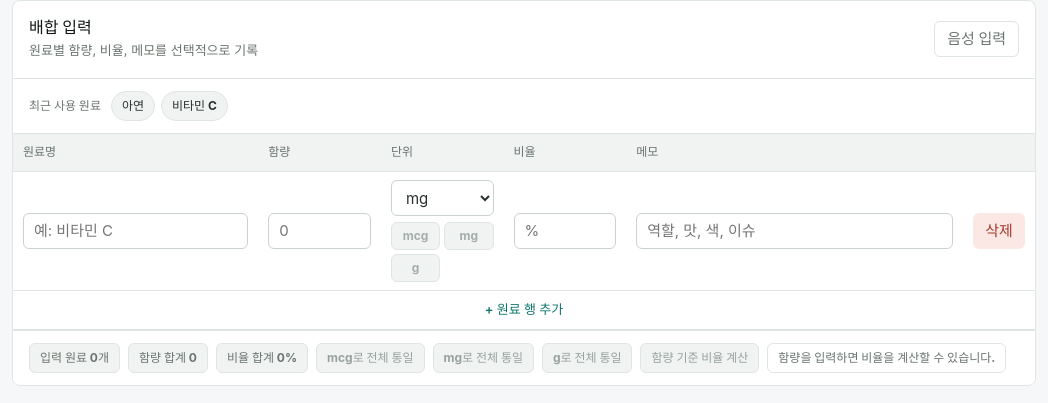
Test: FormulaInputTable › fills the first empty ingredient row from recent ingredients
Click the button "아연" at (133, 106), box [111,90,155,120]
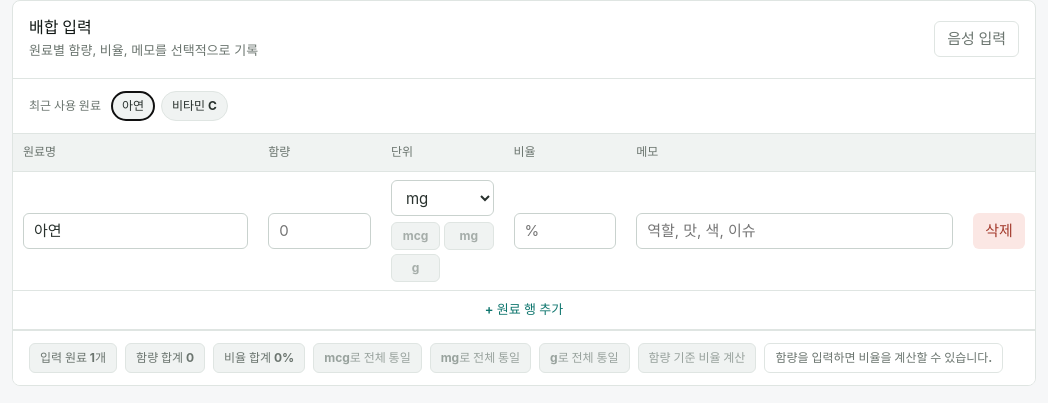
Now the field named "원료명 1" holds "아연", box [23,213,248,249]
